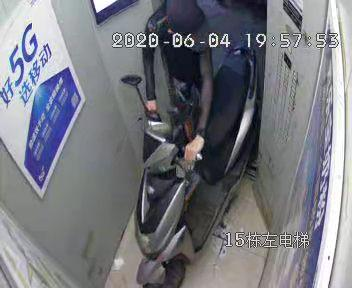Electric-bicycle: (132, 37, 258, 286)
